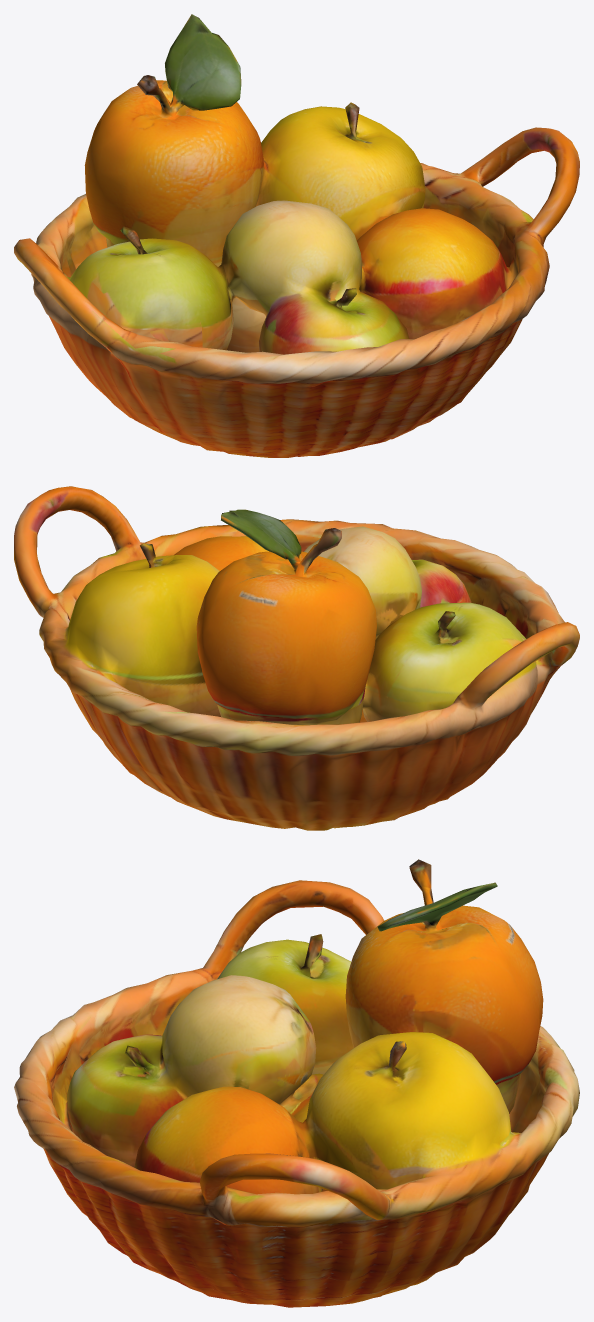
File: a_basket_of_3_fruits.glb
3 renders of one model, top to bottom at view 1: azimuth 30°, elevation 25°; view 2: azimuth 150°, elevation 25°; view 3: azimuth 270°, elevation 25°, orthographic. The views are drawn at different scales.
Size of the model in its own units: 2.01 by 1.18 by 1.68.
Materials: 1 (1 with a texture image).
